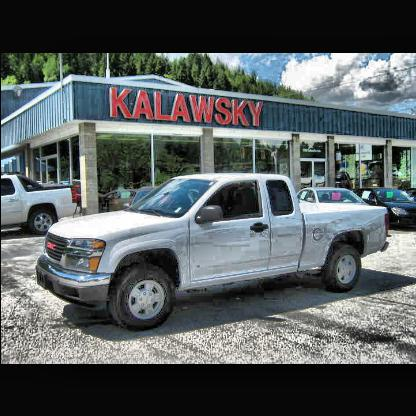GMC Canyon Extended Cab 2012: (37, 174, 390, 327)
